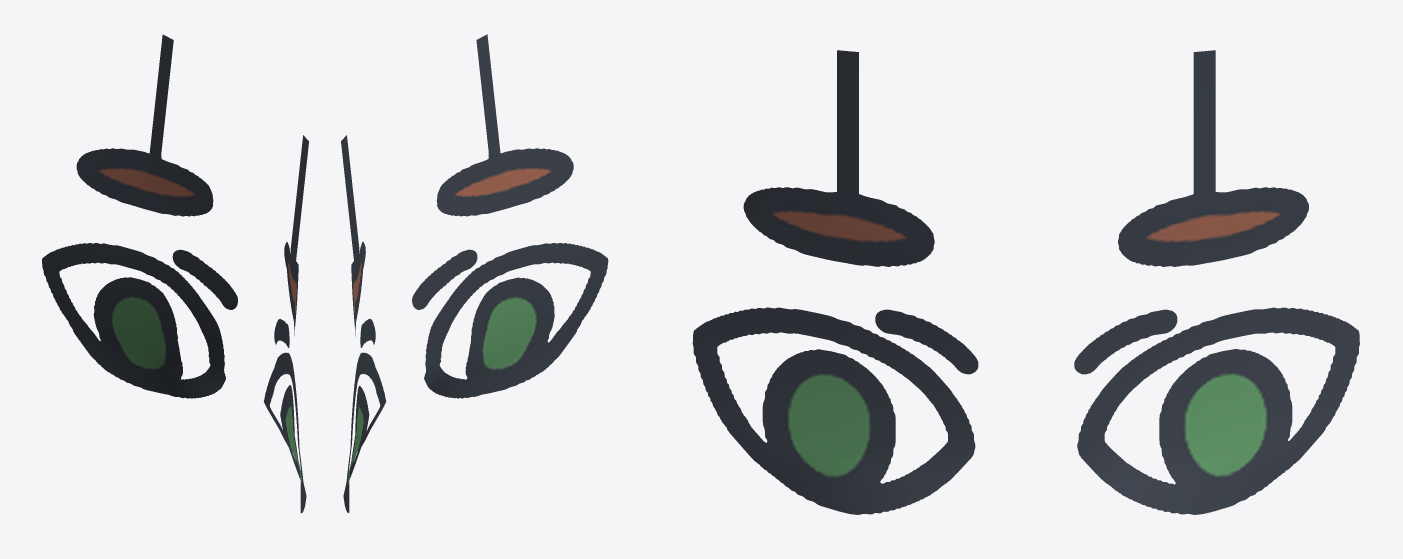
The model's file is Green_Eyes.fbx.
3 views of the same model, side by side, from view 1: azimuth 30°, elevation 25°; view 2: azimuth 150°, elevation 25°; view 3: azimuth 270°, elevation 25° (orthographic). The views are drawn at different scales.
Visible parts, largest first — view 1: Green Eyes; view 2: Green Eyes; view 3: Green Eyes.
Boxes of the visible parts, bbox=[...] form: Green Eyes: bbox=[42, 34, 308, 513]; Green Eyes: bbox=[341, 34, 608, 512]; Green Eyes: bbox=[692, 50, 1359, 514].
Size of the model in its own units: 16.96 by 47.43 by 65.75.
